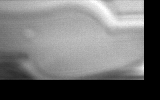cell: (18, 23, 39, 42)
